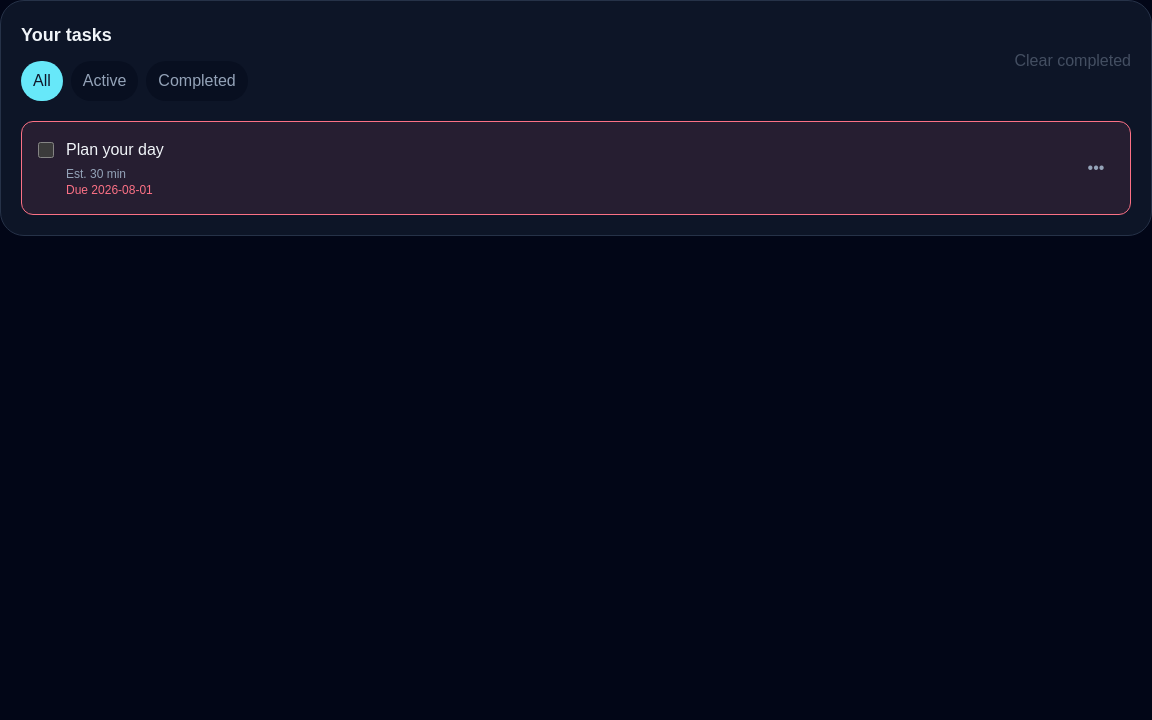
Test: todo flow › always offers a way to remove a due date
Expected: the text "Plan your day" is shown, [66,138,164,162]
Click the button named "Actions for Plan your day" at (1096, 168), box [1078,150,1114,186]
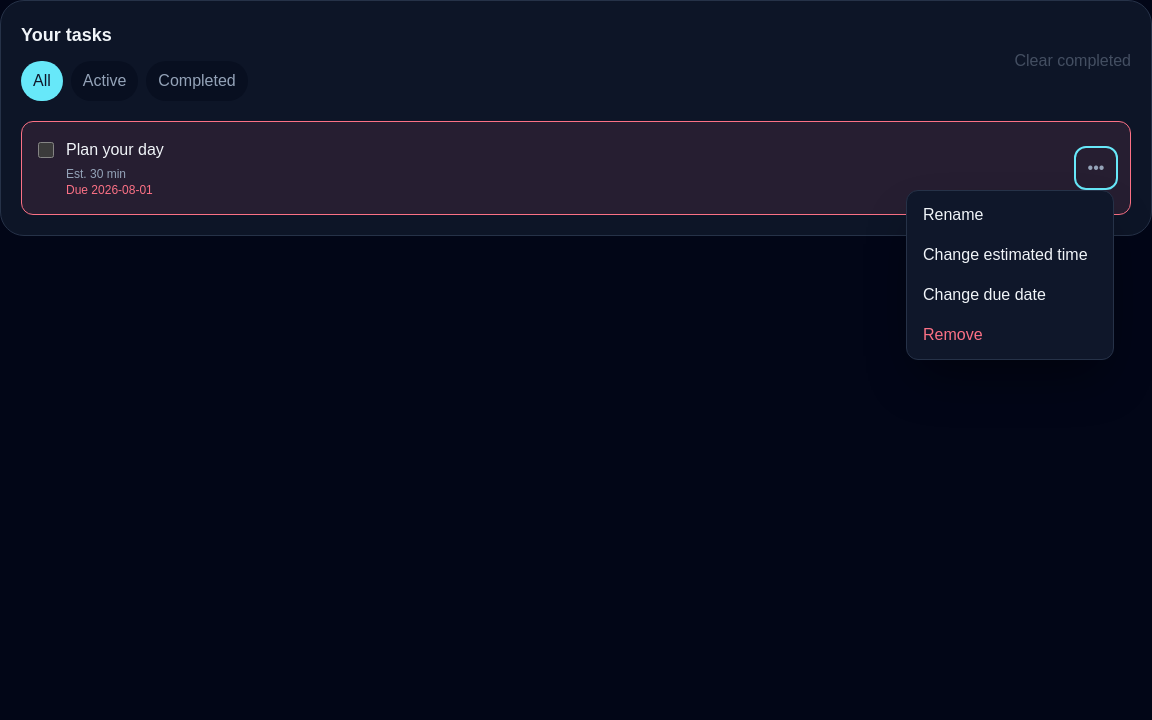
Click the menu item "Change due date" at (1010, 295), box [911,275,1109,315]
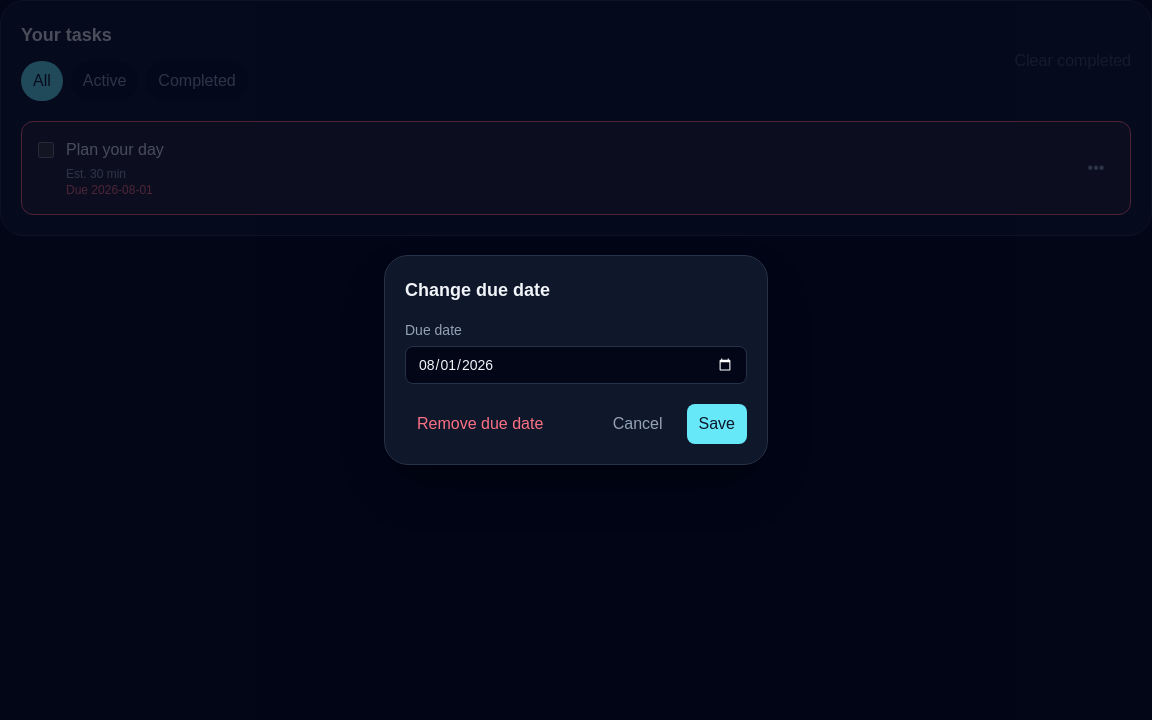
Result: the button "Remove due date" is shown at [405,404,555,444]
